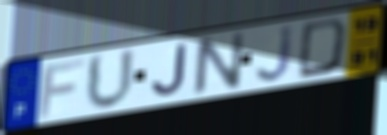D: (295, 16, 350, 81)
F: (37, 57, 88, 121)
J: (254, 23, 296, 84), (149, 41, 188, 99)
N: (192, 29, 248, 99)
U: (84, 46, 138, 112)
